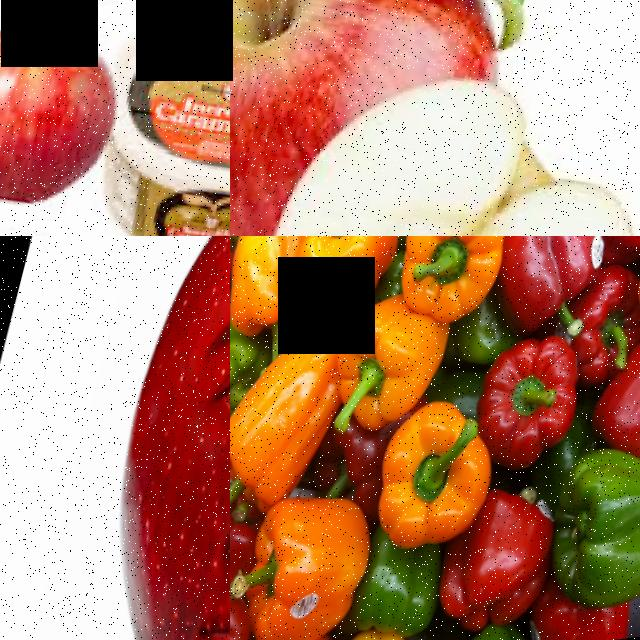apple: (230, 34, 640, 236), (52, 236, 230, 640), (230, 0, 546, 128), (0, 0, 137, 236)
bell pepper: (230, 318, 347, 523), (238, 501, 385, 640), (534, 449, 640, 640), (375, 406, 496, 564), (489, 236, 624, 349), (454, 500, 560, 640), (393, 236, 526, 338), (476, 337, 577, 459), (342, 291, 428, 414), (286, 236, 412, 310), (230, 236, 300, 328), (579, 286, 640, 384), (608, 350, 640, 479)
